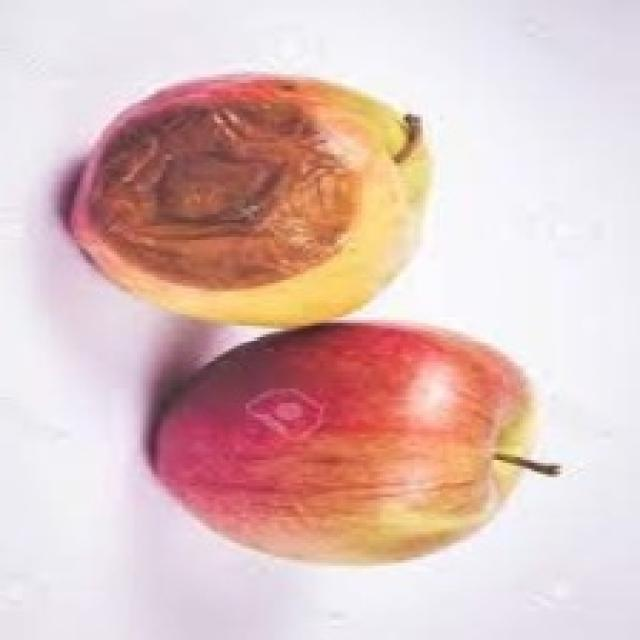rotten_apple: (85, 77, 423, 316)
